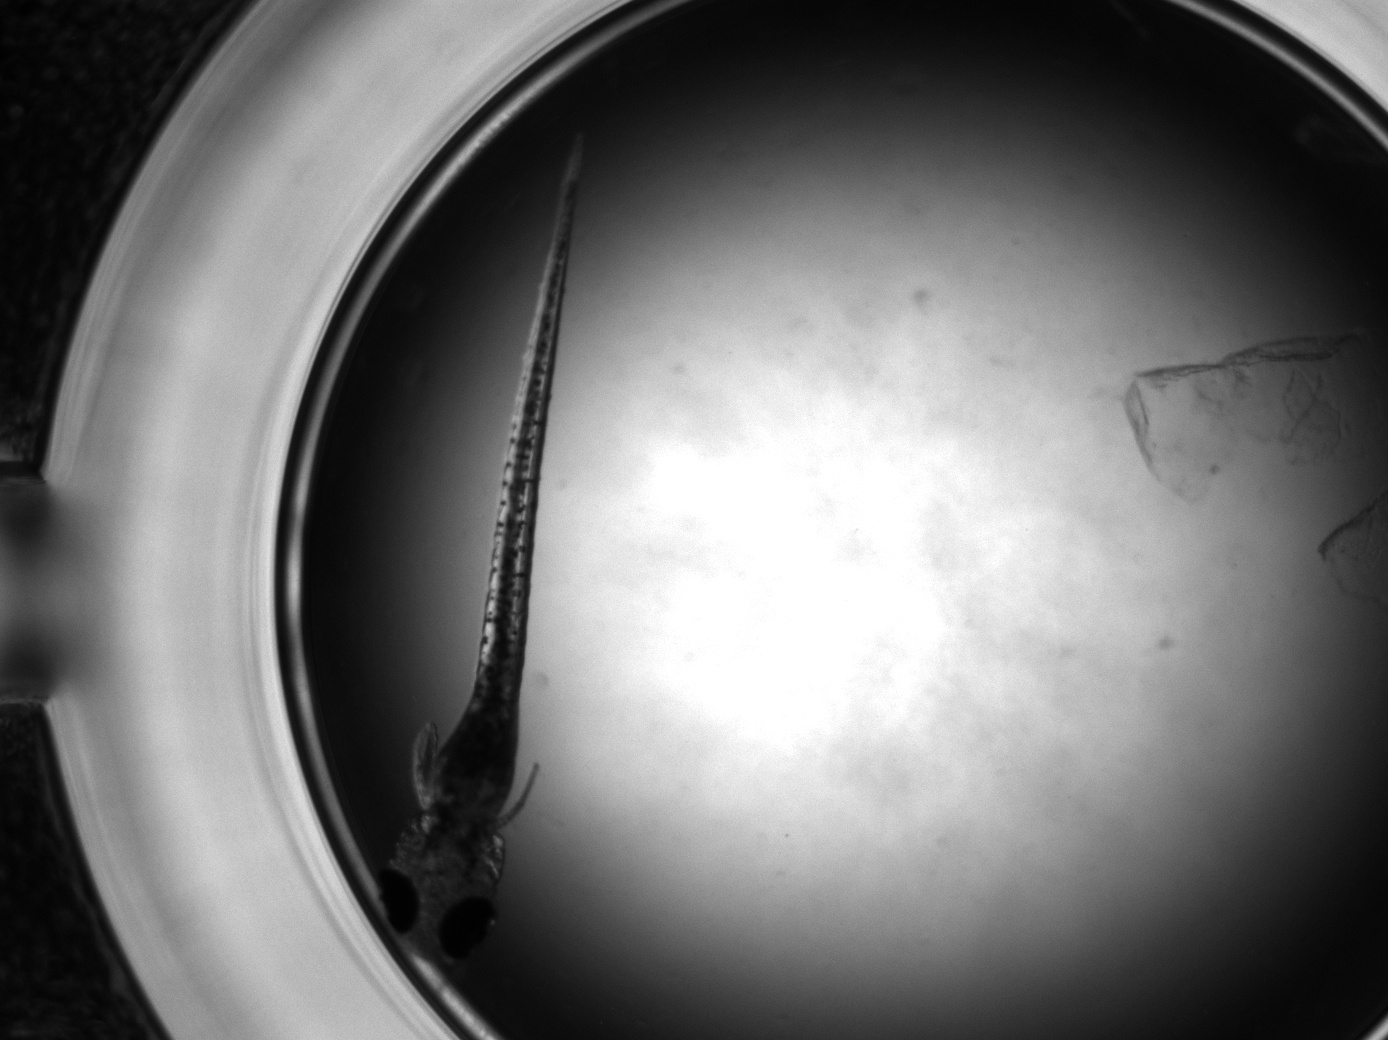debris: (1122, 327, 1386, 505), (1318, 482, 1388, 607)
embryo: (377, 131, 584, 962)
eye: (434, 896, 498, 962), (377, 866, 420, 935)
yolksac: (426, 697, 521, 829)
